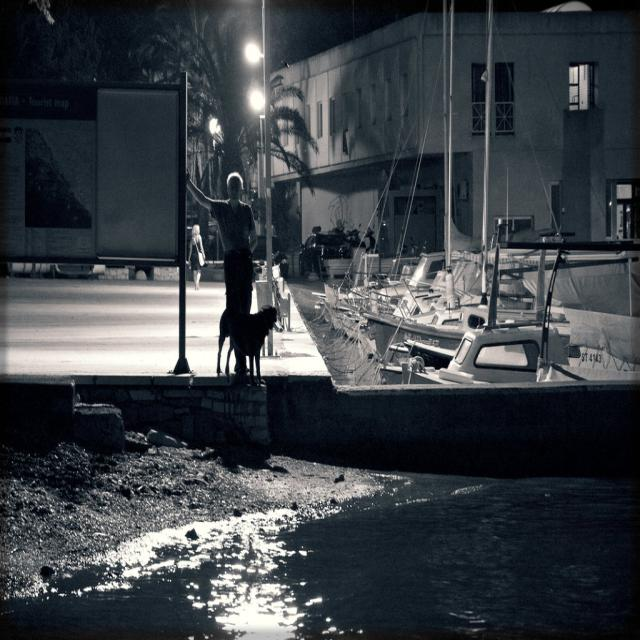People: (220, 139, 278, 327)
dog: (218, 283, 278, 395)
